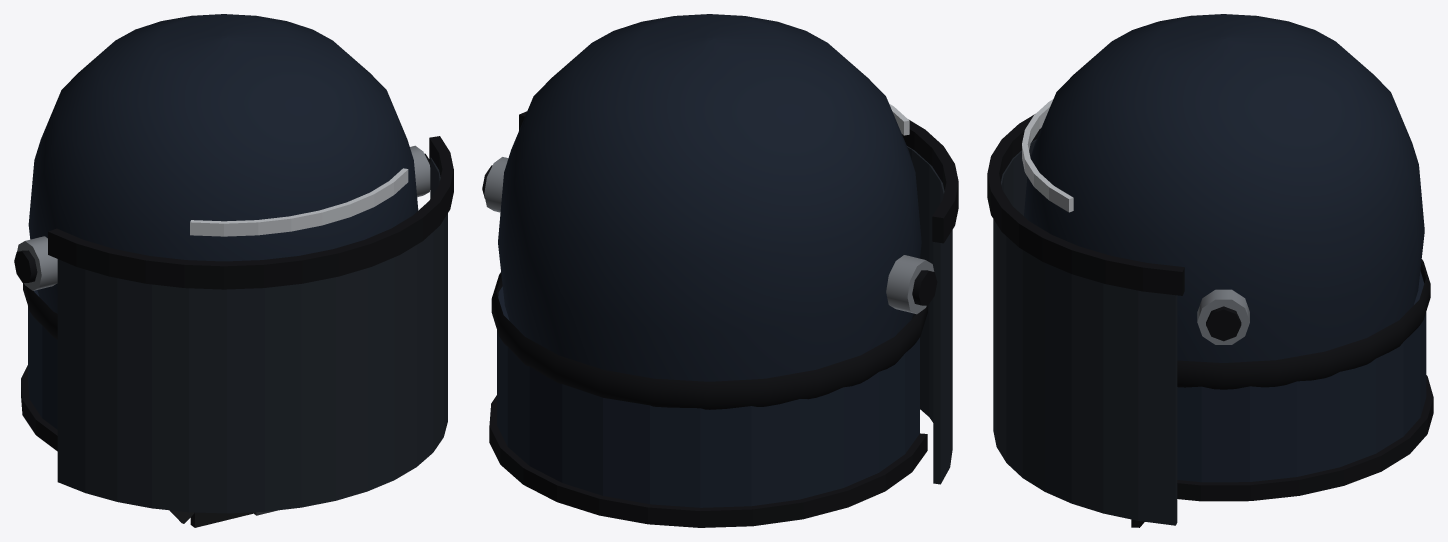
Rendered from zombie-helmet.glb.
3 renders of one model, left to right at view 1: azimuth 30°, elevation 25°; view 2: azimuth 150°, elevation 25°; view 3: azimuth 270°, elevation 25°, orthographic. The views are drawn at different scales.
Visible parts, largest first — view 1: zombie-helmet; view 2: zombie-helmet; view 3: zombie-helmet.
Boxes of the visible parts, left/top/right/bottom form: zombie-helmet: left=14, top=14, right=453, bottom=527; zombie-helmet: left=482, top=14, right=958, bottom=527; zombie-helmet: left=987, top=14, right=1433, bottom=527.
Bounding box in the file's own units: 0.326 × 0.34 × 0.304.
